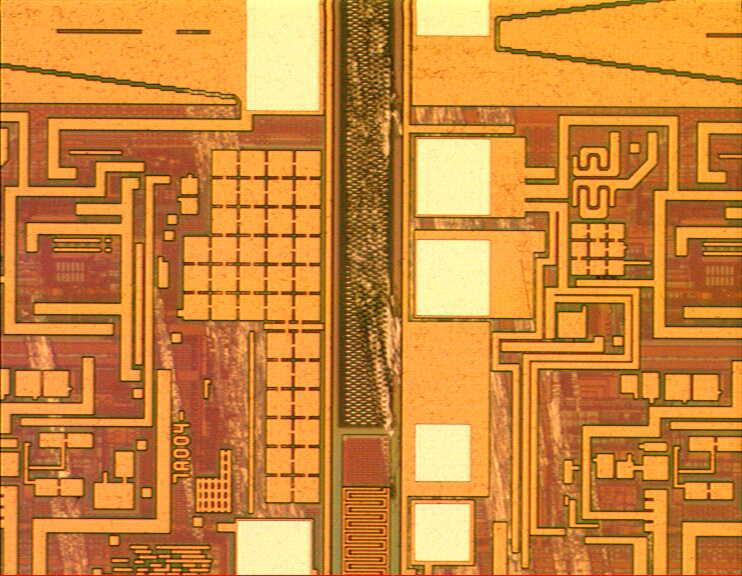SCRATCH: (10, 1, 621, 576)
